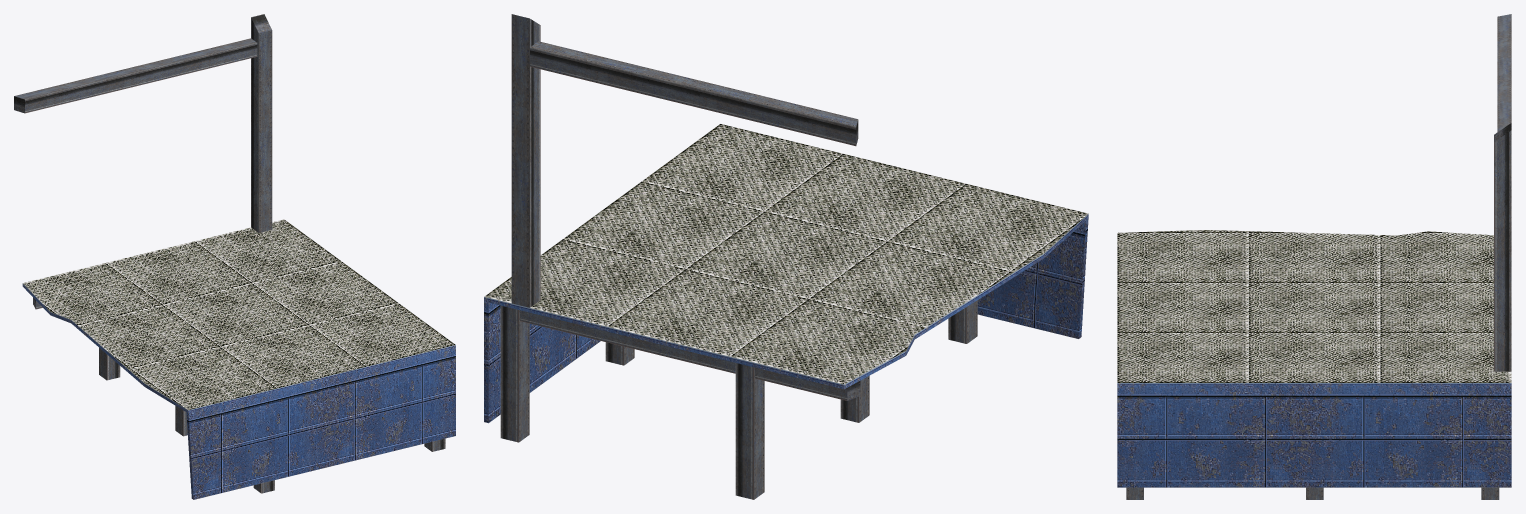
Rendered from Scaffolding A.fbx.
3 views of the same model, side by side, from view 1: azimuth 30°, elevation 25°; view 2: azimuth 150°, elevation 25°; view 3: azimuth 270°, elevation 25° (orthographic). The views are drawn at different scales.
Parts seen in each view (by area): view 1: object_53, object_7, object_0, object_21; view 2: object_53, object_7, object_0, object_21, object_30, object_43, object_15, object_11; view 3: object_53, object_0, object_7.
Part boxes in pixels (bbox=[...]): object_53: bbox=[22, 219, 455, 499]; object_7: bbox=[14, 38, 257, 113]; object_0: bbox=[251, 14, 272, 232]; object_21: bbox=[99, 348, 120, 380]; object_53: bbox=[484, 124, 1088, 423]; object_7: bbox=[530, 41, 858, 146]; object_0: bbox=[511, 14, 540, 307]; object_21: bbox=[735, 363, 764, 499]; object_30: bbox=[500, 305, 529, 442]; object_43: bbox=[520, 310, 860, 400]; object_15: bbox=[948, 300, 977, 343]; object_11: bbox=[840, 376, 869, 422]; object_53: bbox=[1117, 230, 1511, 487]; object_0: bbox=[1494, 123, 1511, 371]; object_7: bbox=[1497, 14, 1511, 131].
Size of the model in its own units: 408 by 450 by 444.
